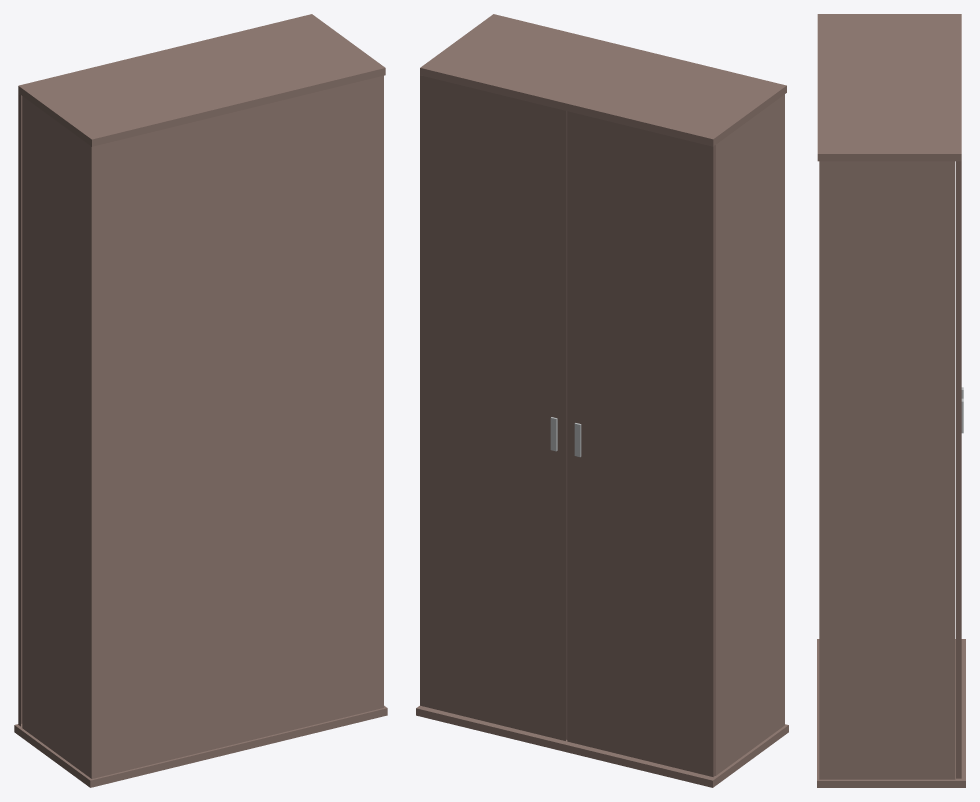
Rendered from furniture_kitchen_pantry.glb.
3 renders of one model, left to right at view 1: azimuth 30°, elevation 25°; view 2: azimuth 150°, elevation 25°; view 3: azimuth 270°, elevation 25°, orthographic. The views are drawn at different scales.
Parts seen in each view (by area): view 1: furniture_kitchen_pantry; view 2: furniture_kitchen_pantry; view 3: furniture_kitchen_pantry.
Boxes of the visible parts, bbox=[...] form: furniture_kitchen_pantry: bbox=[14, 14, 387, 787]; furniture_kitchen_pantry: bbox=[416, 14, 788, 787]; furniture_kitchen_pantry: bbox=[817, 14, 965, 787].
Size of the model in its own units: 0.7119 by 1.48 by 0.3157.
